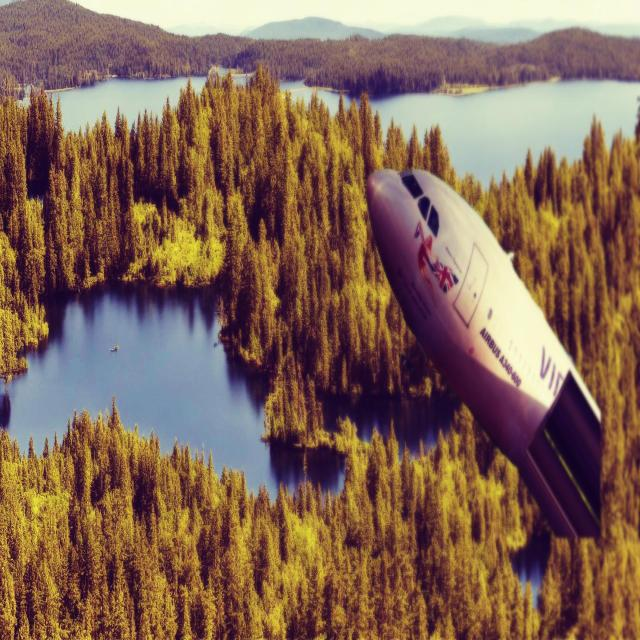airplane: (365, 166, 603, 541)
